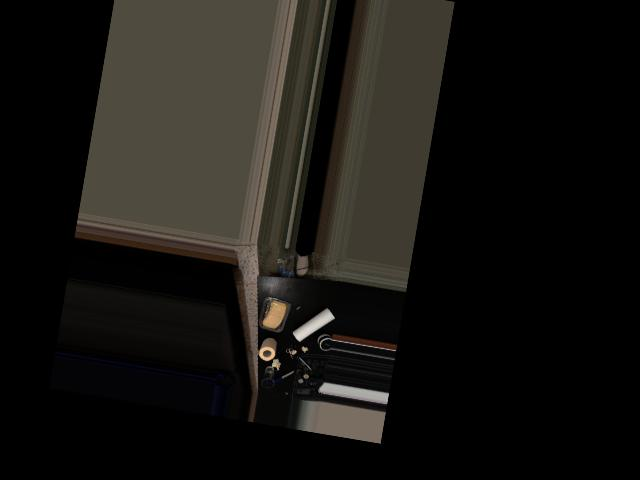cheese: (256, 292, 293, 335)
